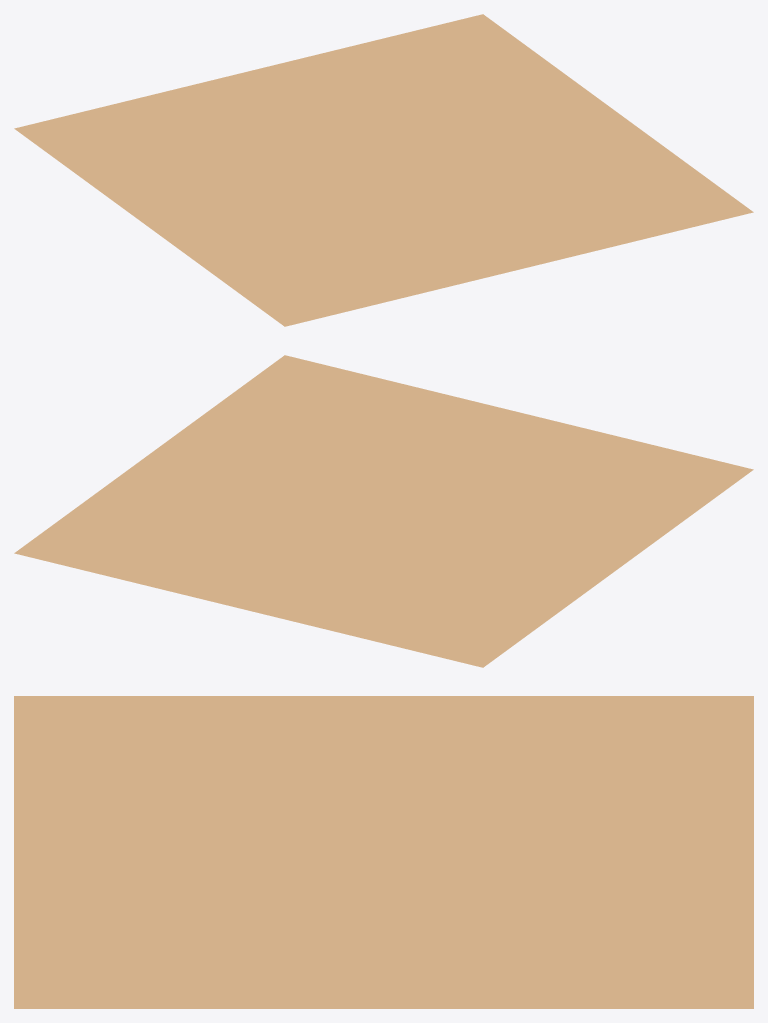
The model's file is SM_Tile_Flat.fbx.
3 views of the same model, one above another, from view 1: azimuth 30°, elevation 25°; view 2: azimuth 150°, elevation 25°; view 3: azimuth 270°, elevation 25° (orthographic). The views are drawn at different scales.
Parts seen in each view (by area): view 1: SM_Tile_Flat; view 2: SM_Tile_Flat; view 3: SM_Tile_Flat.
Boxes of the visible parts, <box> form: SM_Tile_Flat: <box>14,14,753,326</box>; SM_Tile_Flat: <box>14,355,753,667</box>; SM_Tile_Flat: <box>14,696,753,1008</box>.
Bounding box in the file's own units: 500 × 0 × 500.
